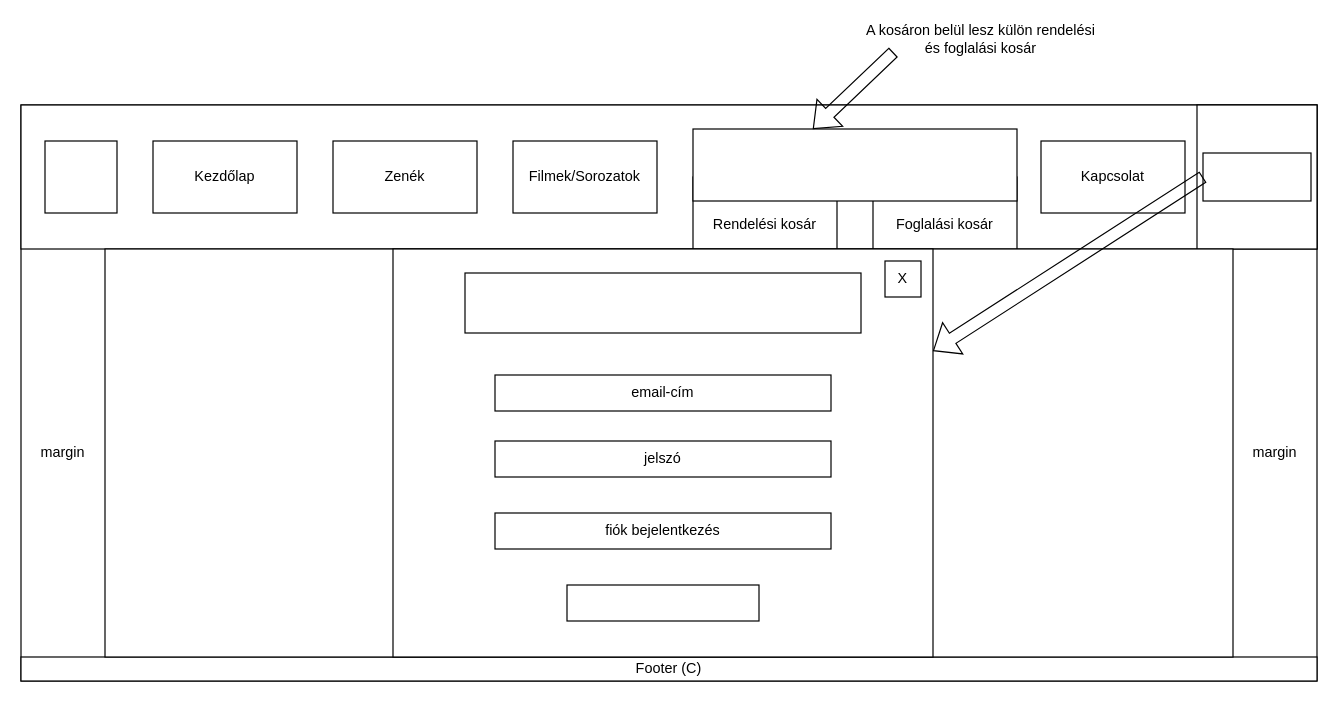
Image size: 1338x702. Some labels were removed from this diagram. The centre of each missing label's shape, as x and y in pixels:
"Fiók Bej/Reg" belongs at pixel 1256 176.
"Kosár" belongs at pixel 854 164.
"Kérjük jelentkezzen be!" belongs at pixel 662 302.
"Logo" belongs at pixel 80 176.
"Még nincs fiókom" belongs at pixel 662 602.
